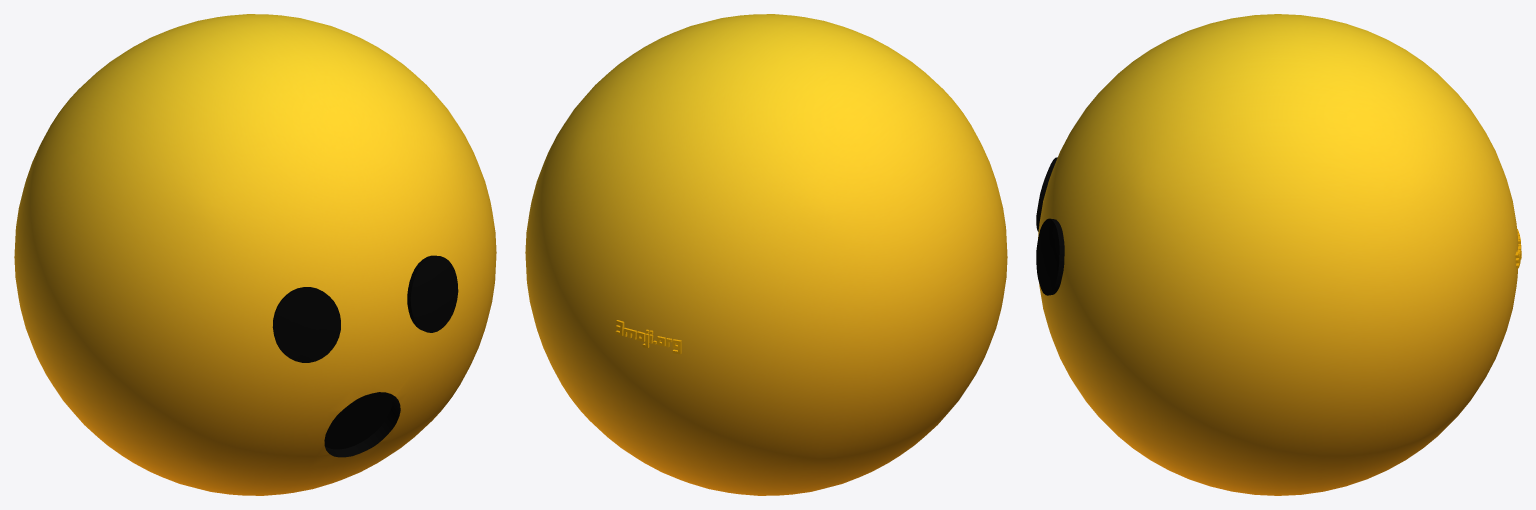
Rendered from face_with_open_mouth.gltf.
The picture shows the model from 3 angles, left to right: view 1: azimuth 30°, elevation 25°; view 2: azimuth 150°, elevation 25°; view 3: azimuth 270°, elevation 25°; orthographic projection.
Parts seen in each view (by area): view 1: face_with_open_mouth; view 2: face_with_open_mouth; view 3: face_with_open_mouth.
Boxes of the visible parts, x1,y1,x2,y2 form: face_with_open_mouth: (14, 14, 496, 495); face_with_open_mouth: (525, 14, 1007, 495); face_with_open_mouth: (1036, 14, 1521, 495).
Size of the model in its own units: 1.69 by 1.69 by 1.7.
Materials: 2 (2 with a texture image).
